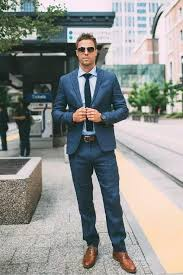F_M_suit jacket: (50, 70, 138, 160)
F_belt: (72, 131, 115, 147), (70, 135, 111, 146)
F_dress pants: (61, 140, 132, 255)
F_tie: (76, 71, 102, 130)
